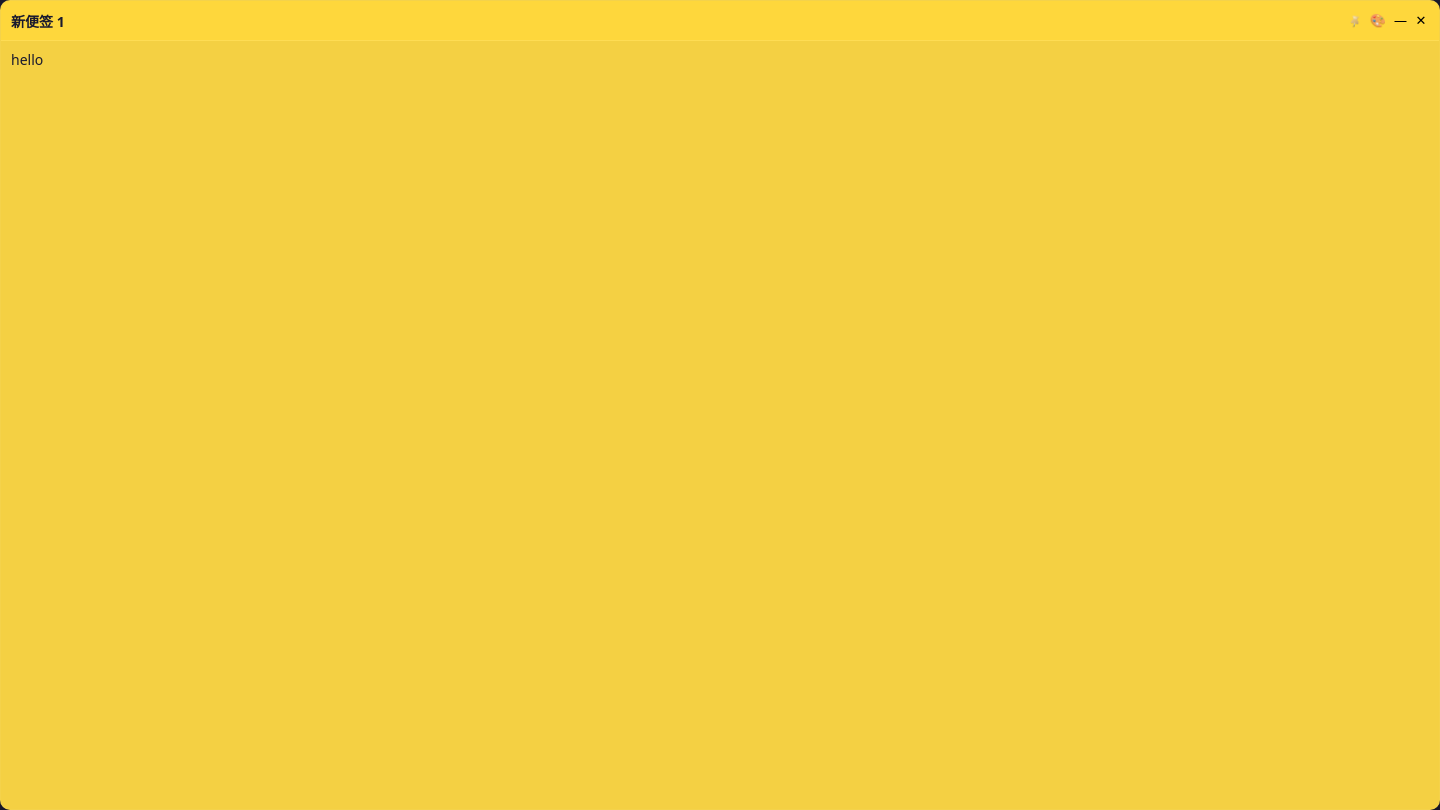
Scenario: IdeaBox close behavior scope › limits the editable title field width to 75 percent of the title area
Step 1. Double-click the text titled "新便签 1" → (38, 21), box [11, 12, 65, 30]
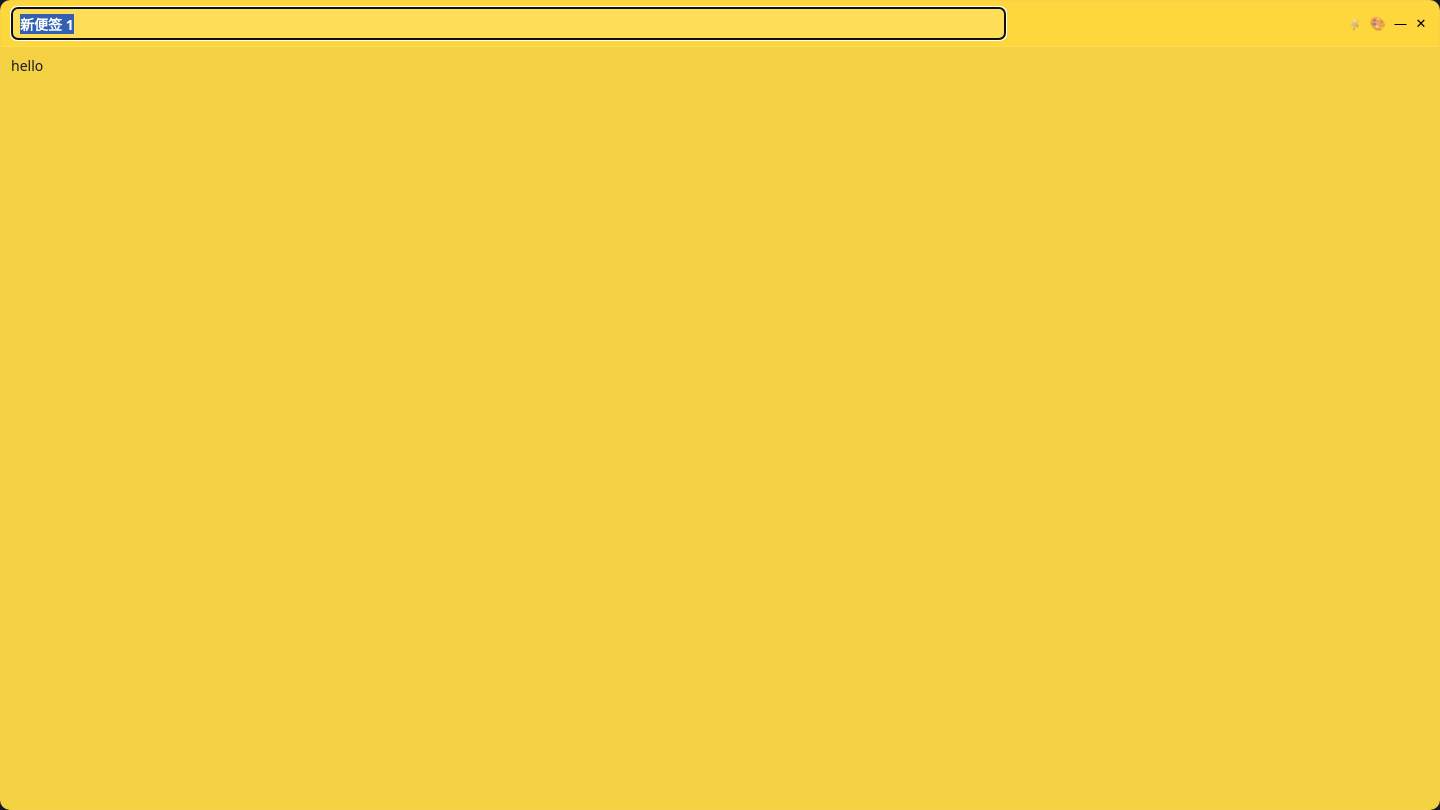
Expected: the field is shown, [11, 7, 1006, 40]
